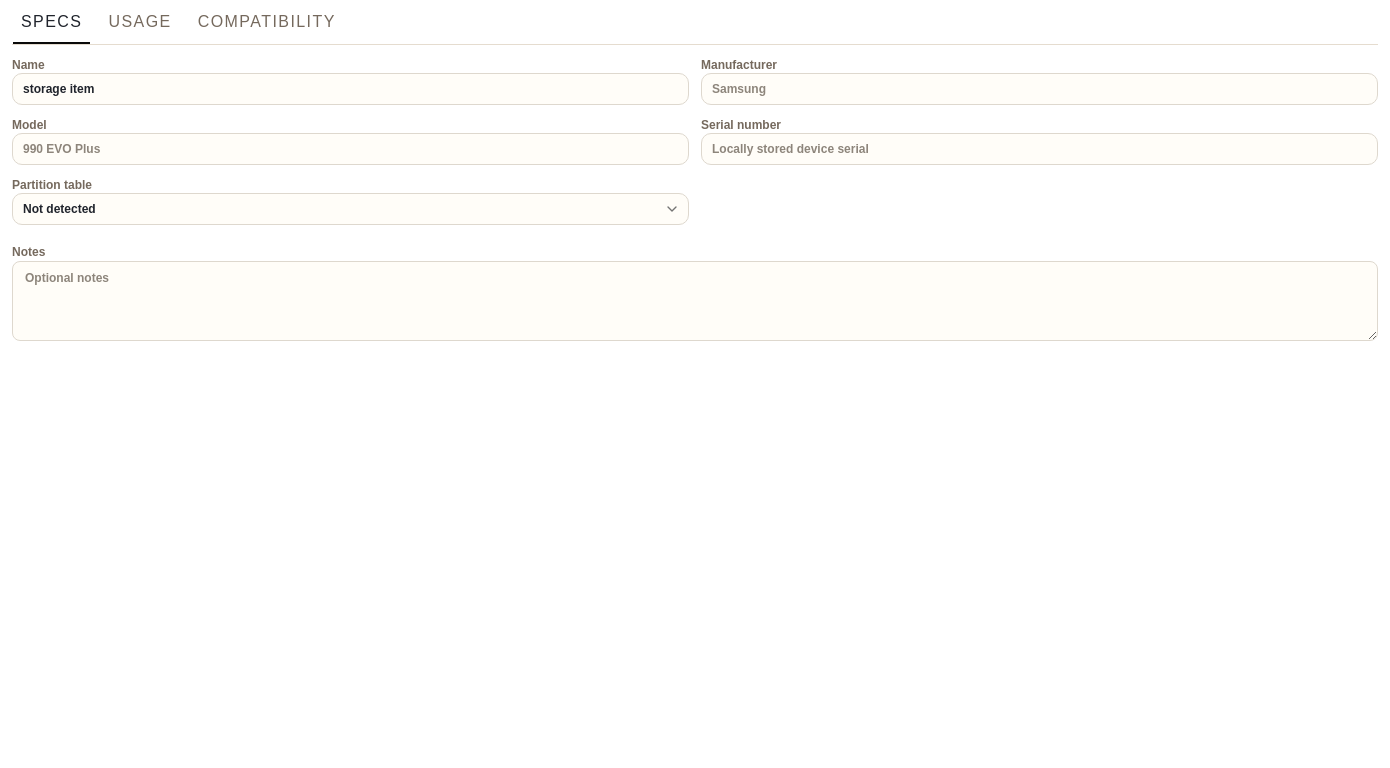
Test: ComponentInspectorTabs › shows live usage only for a mapped storage device
The width and height of the screenshot is (1390, 768).
Click the tab "Usage": x=140, y=22 [100, 4, 181, 40]
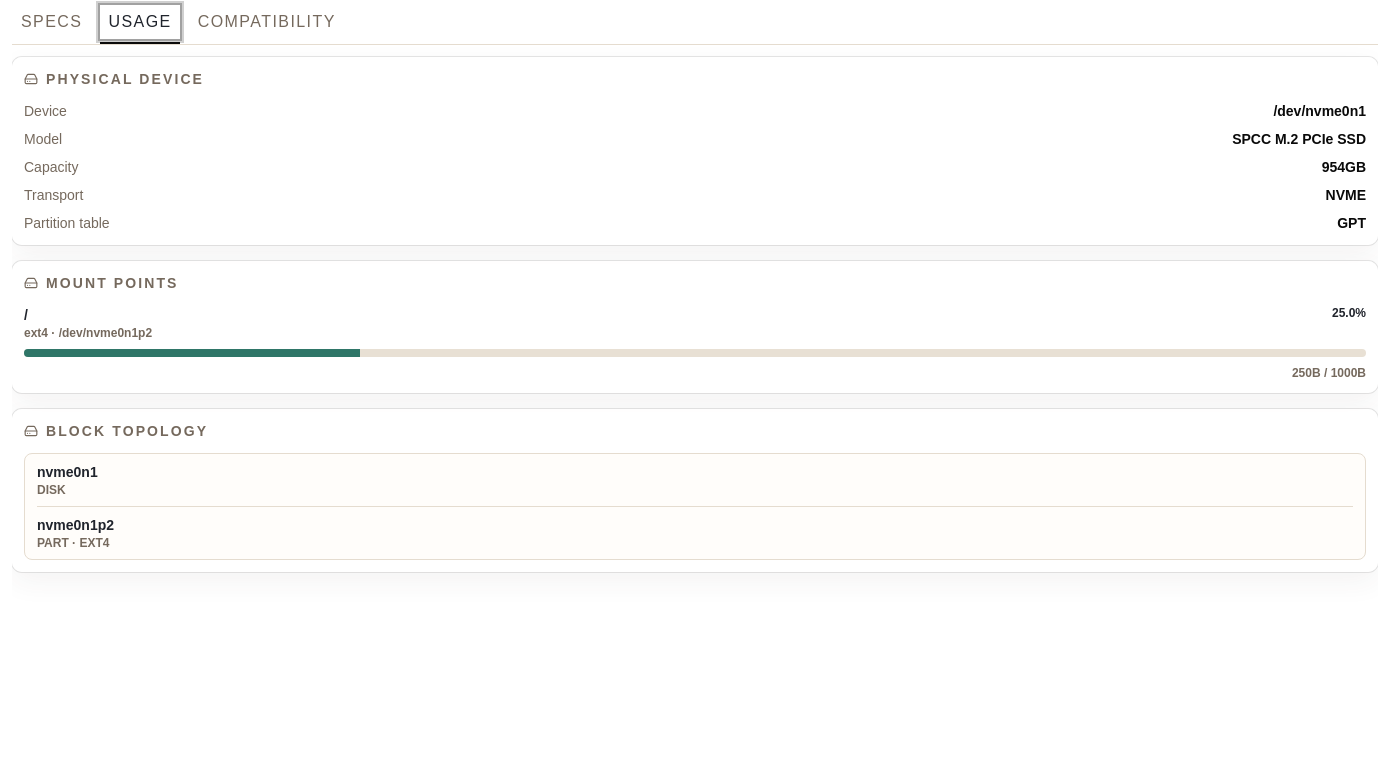
Check: the text "/dev/nvme0n1" is shown, box [1273, 103, 1366, 119]
Check: the text "25.0%" is shown, box [1332, 305, 1366, 321]
Check: the text "gpt" is shown, box [1337, 215, 1366, 231]
